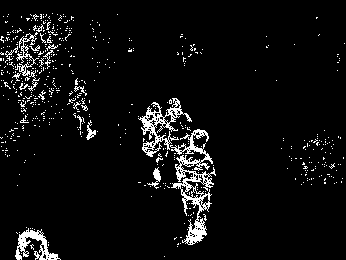person: (177, 129, 216, 246), (141, 101, 170, 185), (166, 96, 193, 178), (69, 76, 97, 143)
